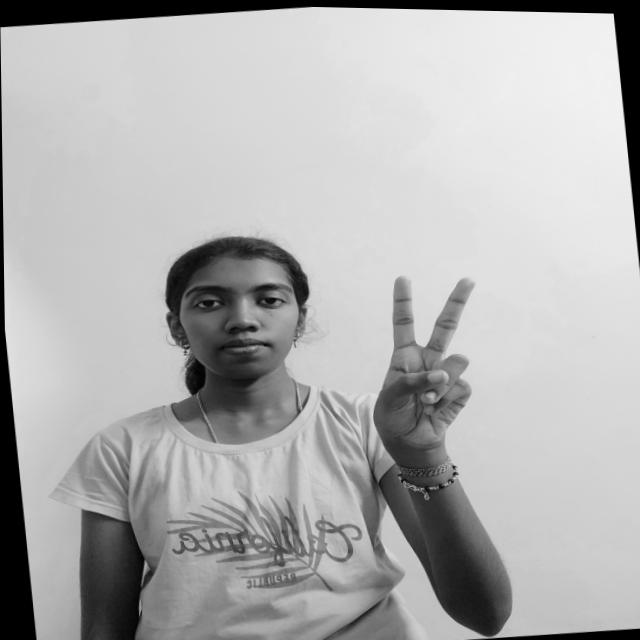Victory: (353, 257, 499, 471)
